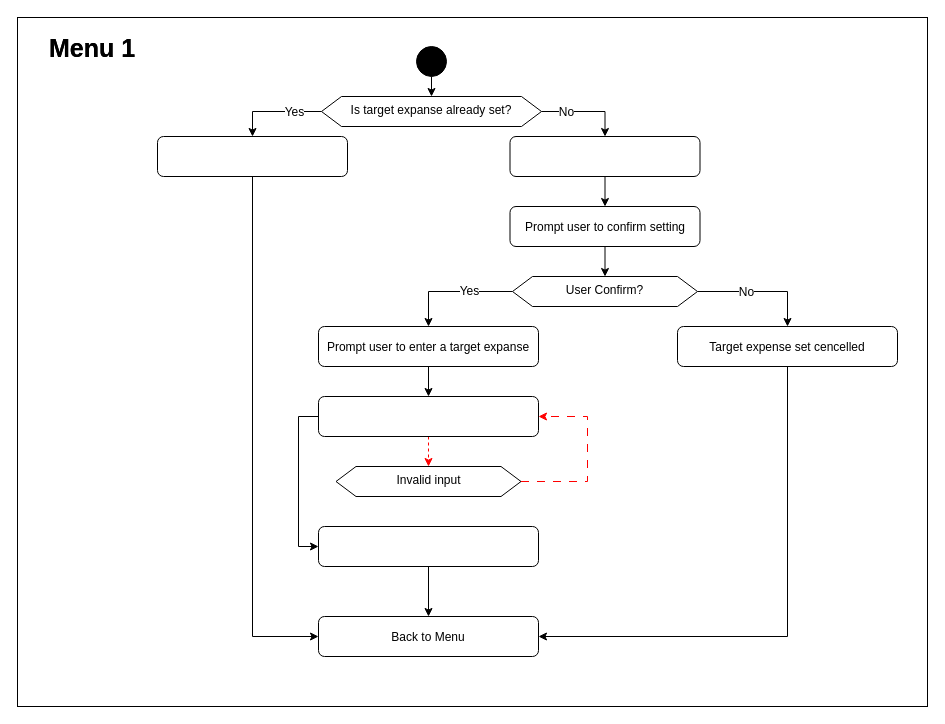
Some shapes in this 945 by 724 pixel diagram are drawn without their labels. The shapes that lost their labels are listed below. From the top down, each one's centre as x and y in pixels, then its label:
[252,156]: Target expanse already set
[604,156]: Only once user can set a target
[428,416]: Validate user input (numeric)
[428,546]: Success to Set target (global var)
